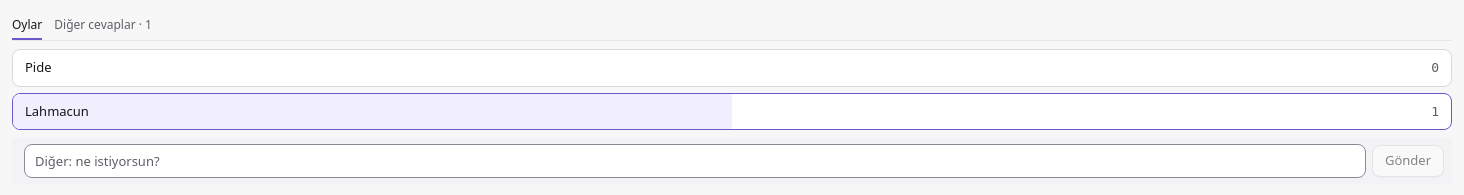
Test: diger cevaplar ayri sekmede
Expected: the text "Lahmacun" is shown, [25,102,89,120]
Expected: the text "Kebap" is not shown
Click the tab "Diğer cevaplar · 1" at (103, 26), box [54,12,152,40]
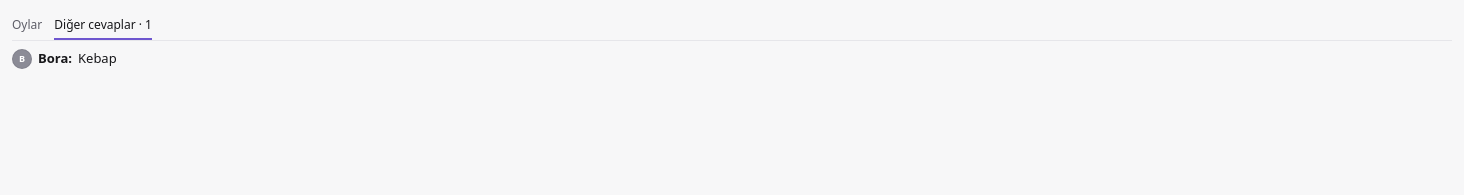
Now the list item "Kebap" is shown, box [78,49,117,67]
